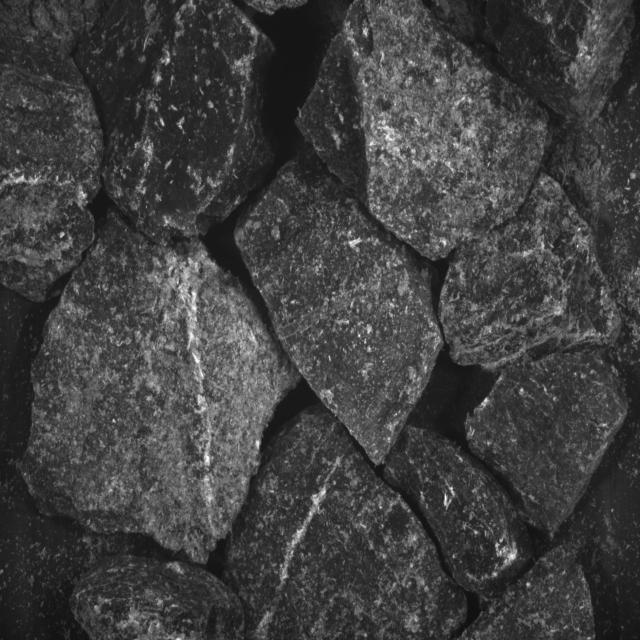Stones: (22, 215, 300, 564), (297, 1, 549, 260), (236, 158, 444, 465), (225, 406, 467, 640), (77, 1, 275, 243), (440, 175, 621, 371), (1, 1, 104, 302), (467, 352, 629, 534), (385, 427, 532, 597), (487, 1, 635, 126), (71, 556, 245, 640), (462, 547, 596, 640)
